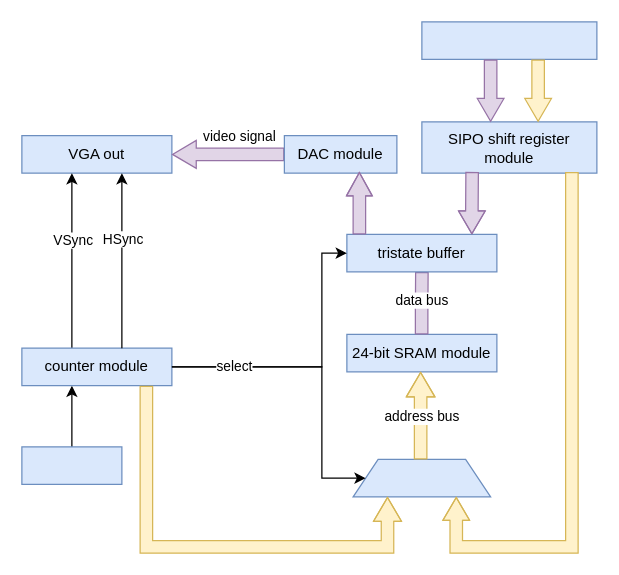
The diagram is 619 pixels wide and 575 high, and some of its shapes have lost their labels. The shapes that lost their labels are listed below. From the top down, each one's centre as x and y in pixels, then its label:
At [509,40]: "external graphic input".
At [71,465]: "crystal oscillator".
At [421,477]: "multiplexer".
